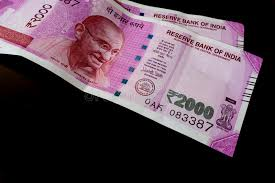twoThousand: (48, 12, 249, 125)
